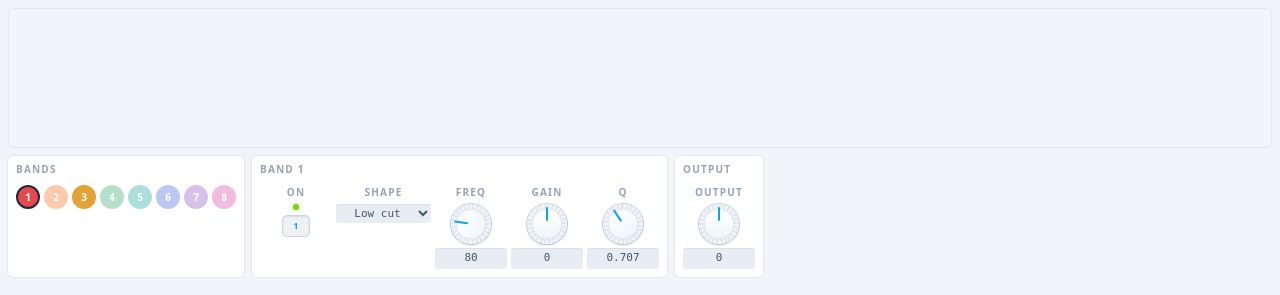
Test: the EQ’s panel › selects a band from its chip, an off one too
Click the button named "Band 6 (off)".
click(168, 197)  # box 156,185 -> 180,209
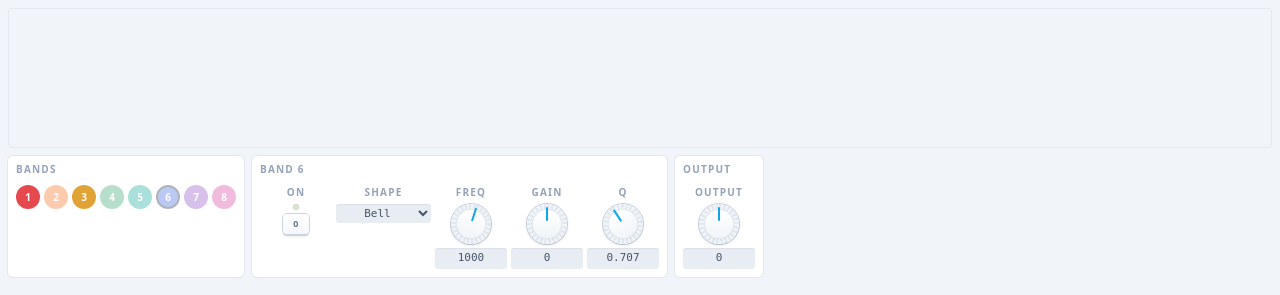
Result: the element "Band 6" is shown at 252,156 -> 667,276
Result: the button named "Band 6 On" is shown at 283,214 -> 309,234
